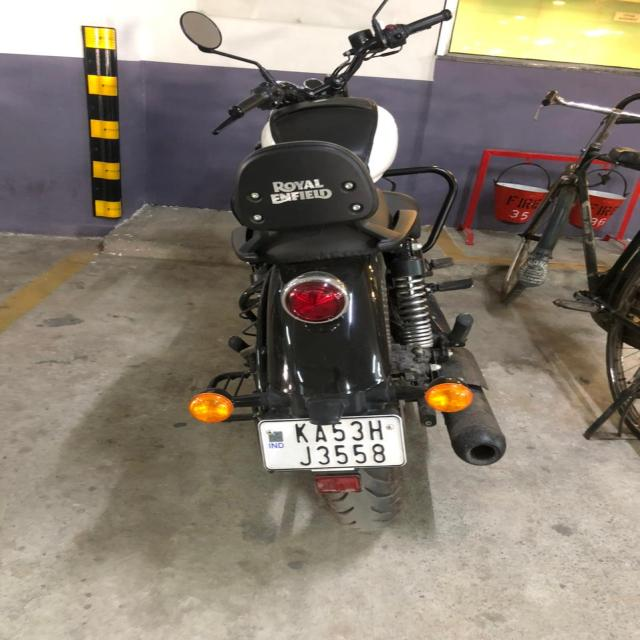number plate: (256, 413, 407, 471)
